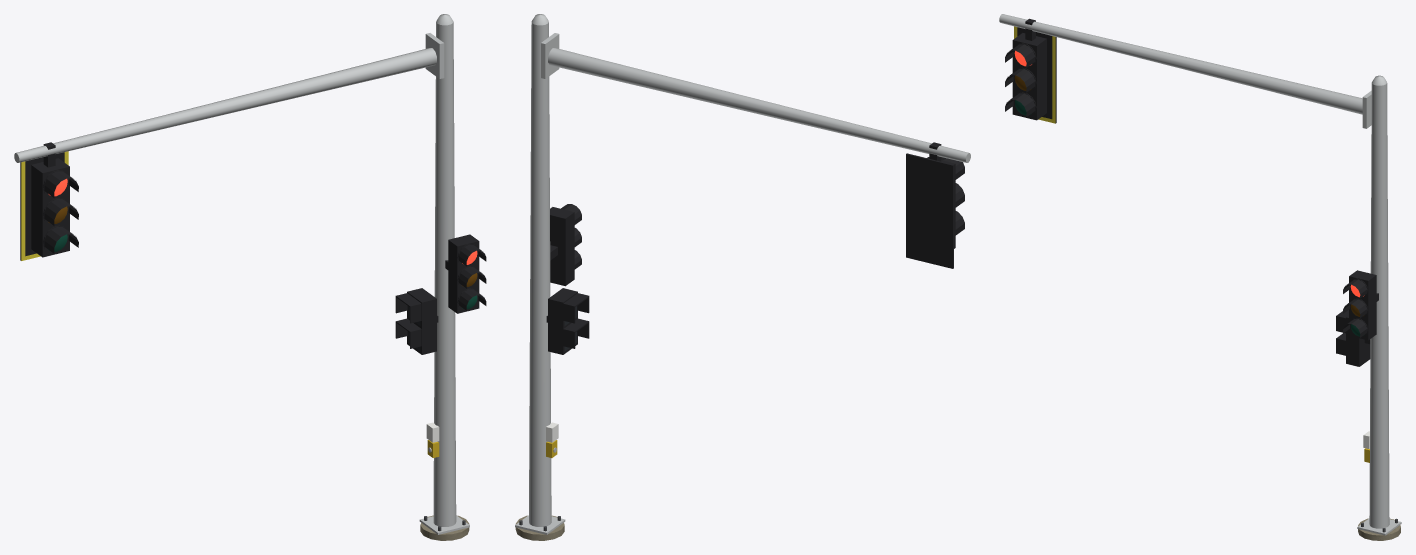
Rendered from traffic_light.glb.
3 renders of one model, left to right at view 1: azimuth 30°, elevation 25°; view 2: azimuth 150°, elevation 25°; view 3: azimuth 330°, elevation 25°, orthographic. The views are drawn at different scales.
Parts seen in each view (by area): view 1: traffic_light_body; view 2: traffic_light_body; view 3: traffic_light_body.
Boxes of the visible parts, x1,y1,x2,y2 form: traffic_light_body: (14, 14, 486, 540); traffic_light_body: (515, 14, 970, 540); traffic_light_body: (999, 14, 1401, 540).
Bounding box in the file's own units: 0.2957 × 0.3245 × 0.0499.
Materials: 7 (2 with a texture image).
